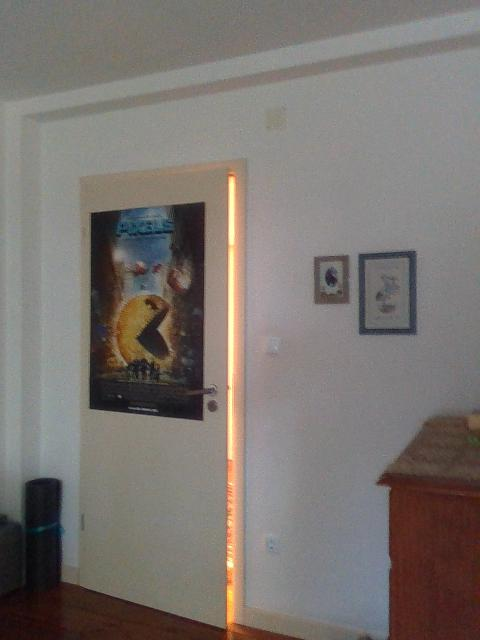door: (82, 167, 231, 625)
